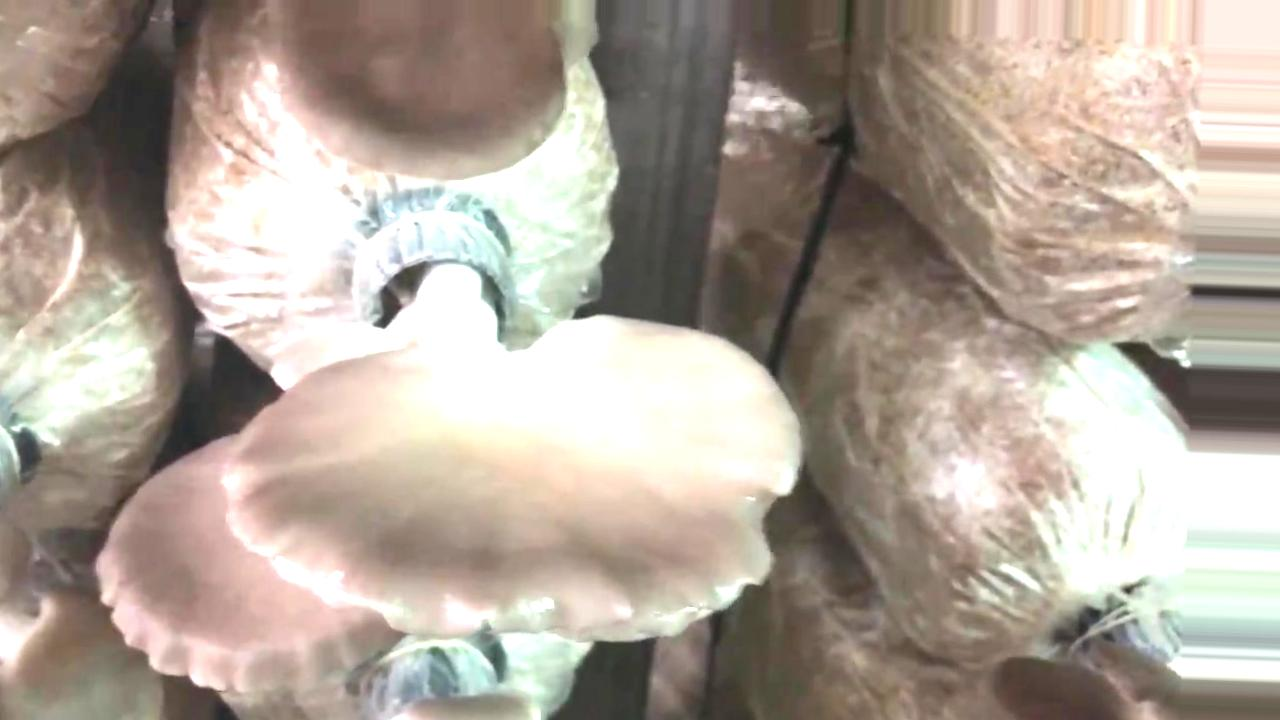nam: (227, 210, 799, 639), (89, 431, 403, 693), (277, 1, 570, 181), (989, 649, 1132, 720)
